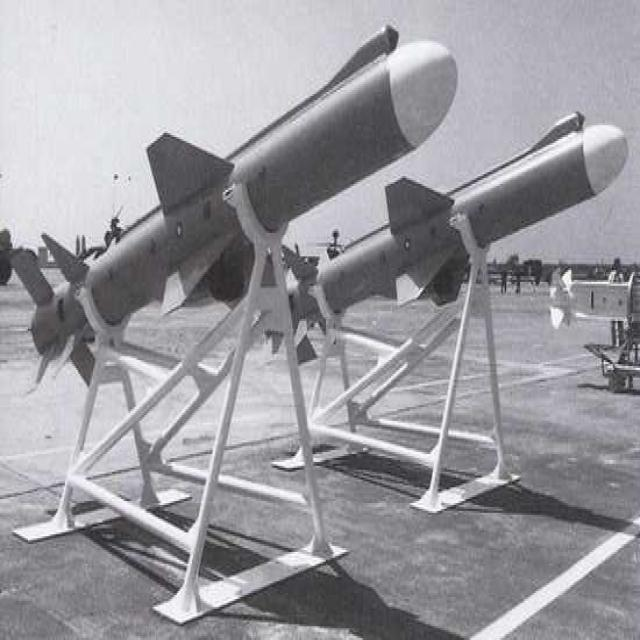missile: (13, 15, 459, 403), (268, 116, 629, 384)
